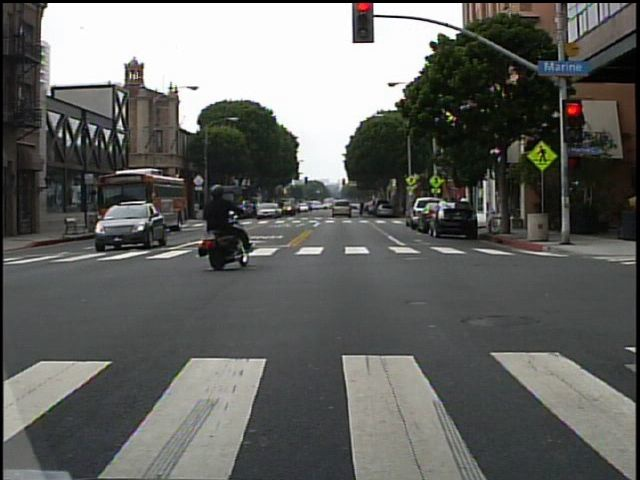person: (191, 178, 258, 258)
